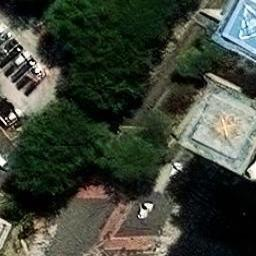heliponto: (191, 95, 255, 160), (223, 2, 255, 53)
